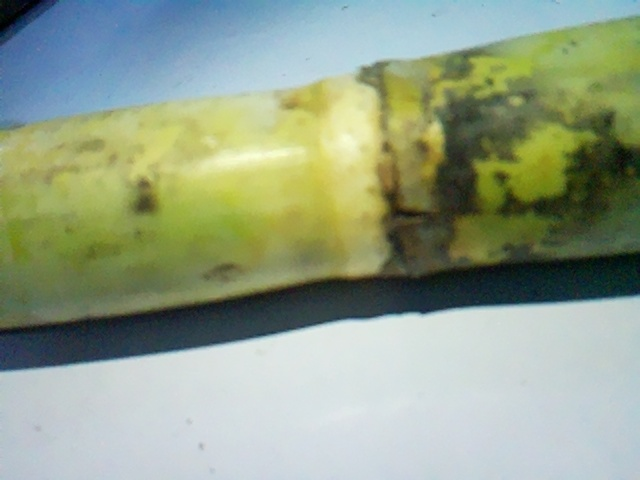Good Sugarcane: (3, 13, 636, 328)
Node: (318, 53, 462, 275)
